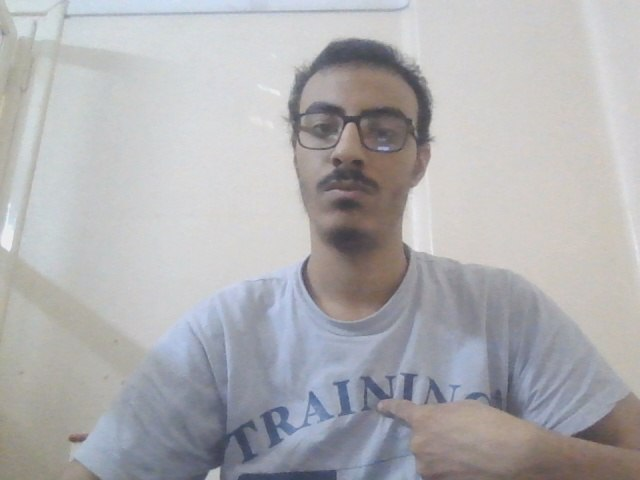Me: (366, 389, 565, 480)
